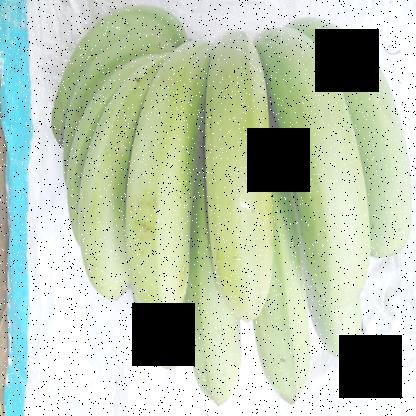unripe: (270, 6, 377, 308), (191, 29, 292, 332), (122, 40, 214, 328), (326, 20, 416, 279), (69, 66, 156, 315), (247, 268, 328, 415), (296, 264, 378, 373), (179, 310, 260, 415)
